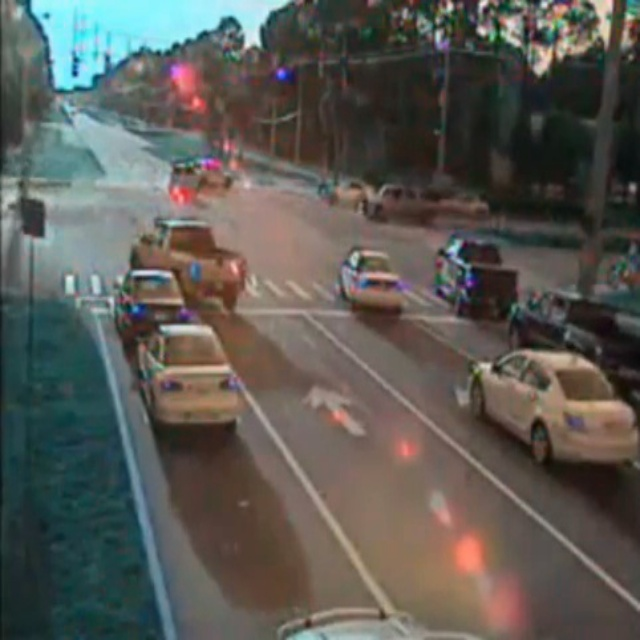acc: (166, 154, 232, 201)
